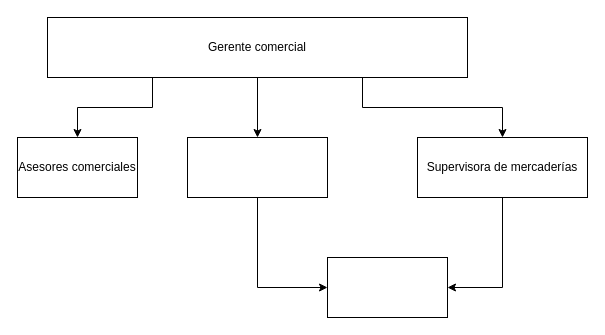
This 605x335 diagram has some shape labels left out. Each missing label, with the centre of its shape:
"Coordinadora de mercadeo" belongs at (x=257, y=167).
"Mercaderistas" belongs at (x=387, y=287).
